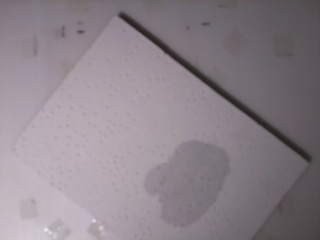Water_detected: (155, 153, 216, 213)
